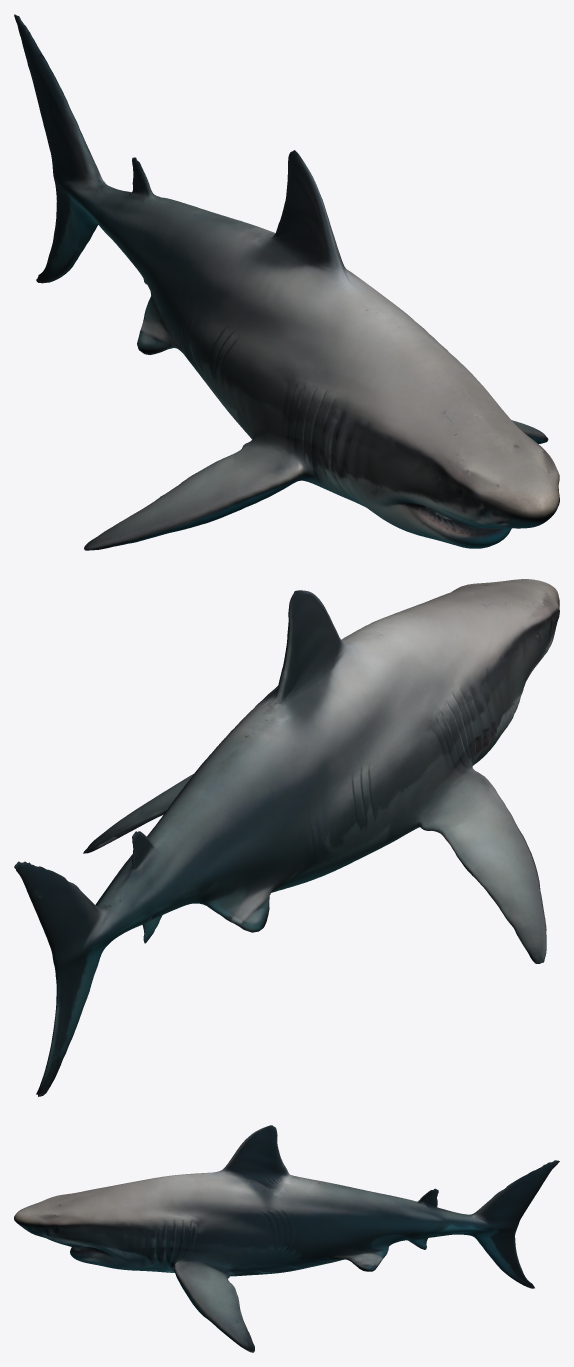
The model's file is cola_shark1.glb.
3 views of the same model, one above another, from view 1: azimuth 30°, elevation 25°; view 2: azimuth 150°, elevation 25°; view 3: azimuth 270°, elevation 25° (orthographic). The views are drawn at different scales.
Visible parts, largest first — view 1: Mesh_0; view 2: Mesh_0; view 3: Mesh_0.
Part boxes in pixels (x1,y1,x2,y2): Mesh_0: (14,14,559,550); Mesh_0: (14,579,559,1096); Mesh_0: (14,1125,559,1352).
Bounding box in the file's own units: 1 × 0.6894 × 2.01.
Materials: 1 (1 with a texture image).
